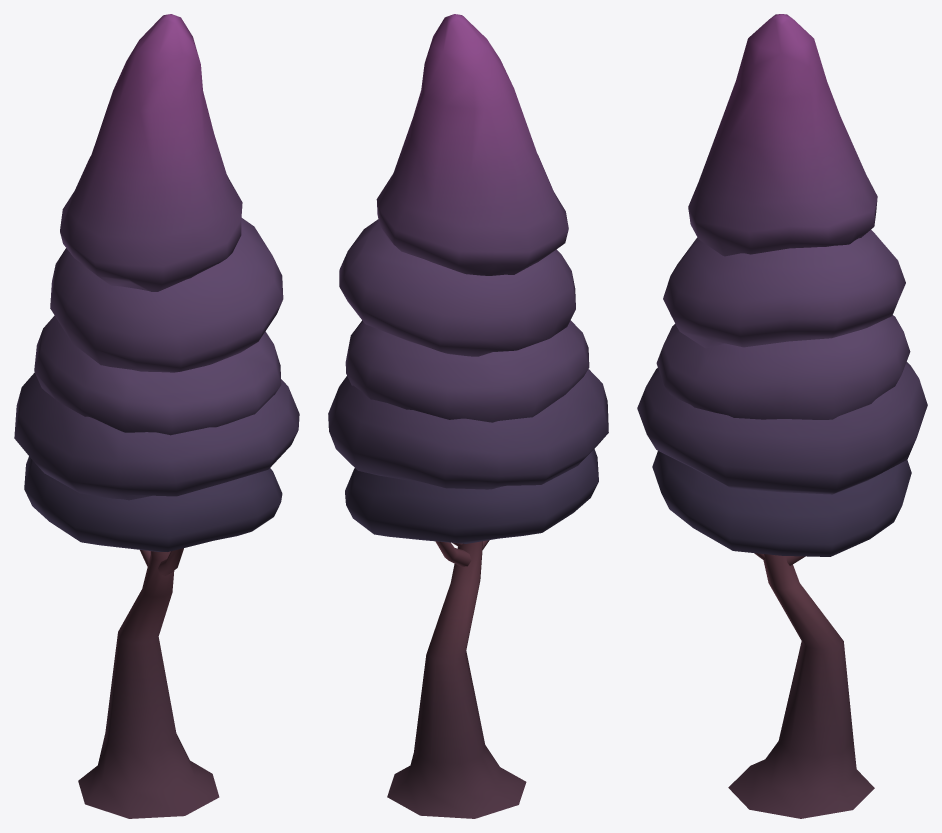
Rendered from tree_pack_20.glb.
3 renders of one model, left to right at view 1: azimuth 30°, elevation 25°; view 2: azimuth 150°, elevation 25°; view 3: azimuth 270°, elevation 25°, orthographic.
Visible parts, largest first — view 1: Tree.020; view 2: Tree.020; view 3: Tree.020.
Boxes of the visible parts, <box> form: Tree.020: <box>14,14,299,818</box>; Tree.020: <box>328,14,608,818</box>; Tree.020: <box>637,14,927,818</box>.
Bounding box in the file's own units: 2.15 × 6.54 × 2.21.
1 material, 1 textured.
